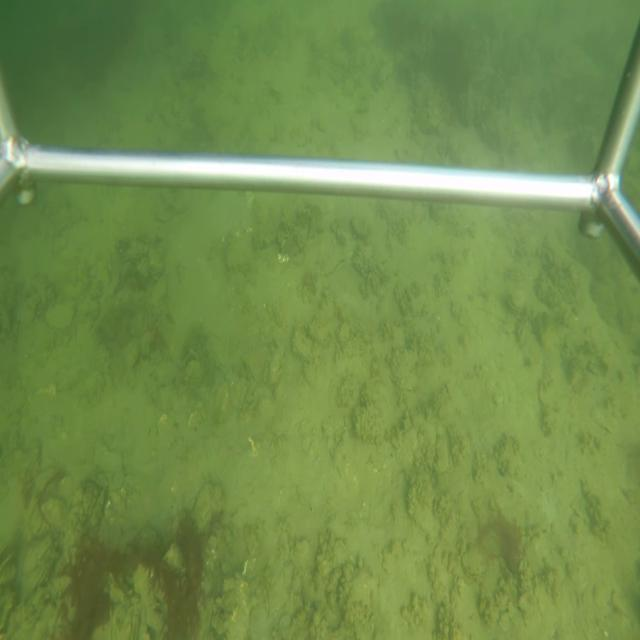Oyster-Closed: (289, 324, 318, 364), (459, 542, 487, 582)
Oyster-Open: (176, 343, 206, 387)
